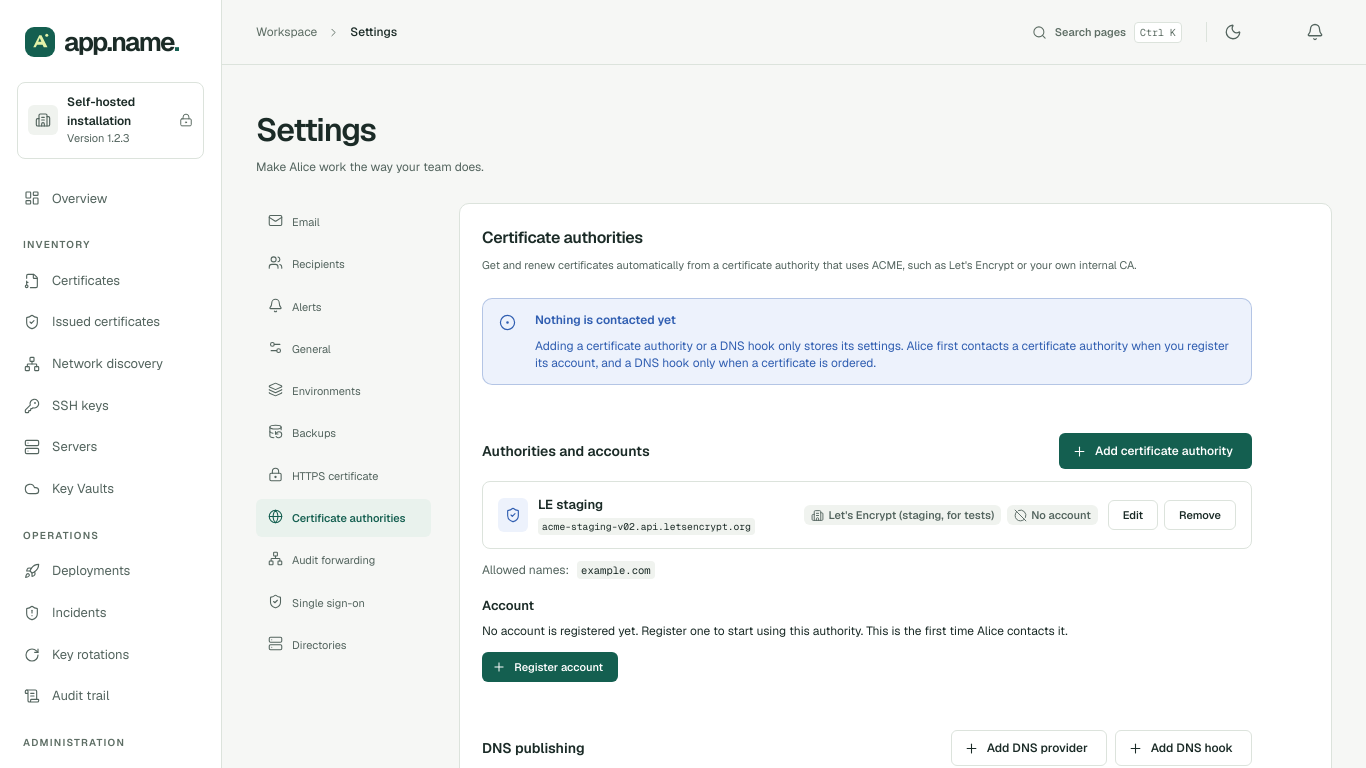
Test: Certificate authorities settings › registers at an authority without terms: no box, and no terms are sent
Click the button "Register account" at (550, 667), box [482, 652, 618, 682]
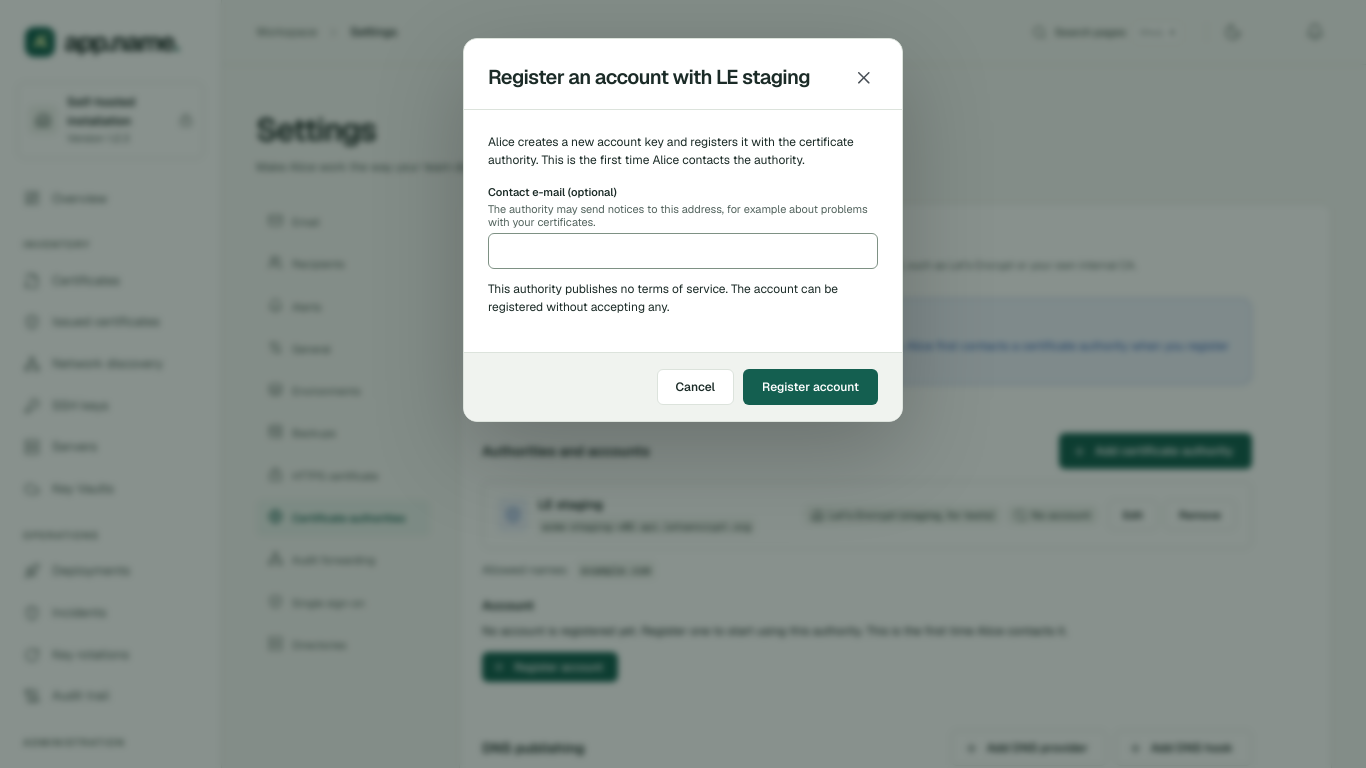
Check: the text "This authority publishes no terms of service" is shown, box [488, 281, 838, 315]
Click the button "Register account" at (811, 387), box [743, 369, 878, 405]
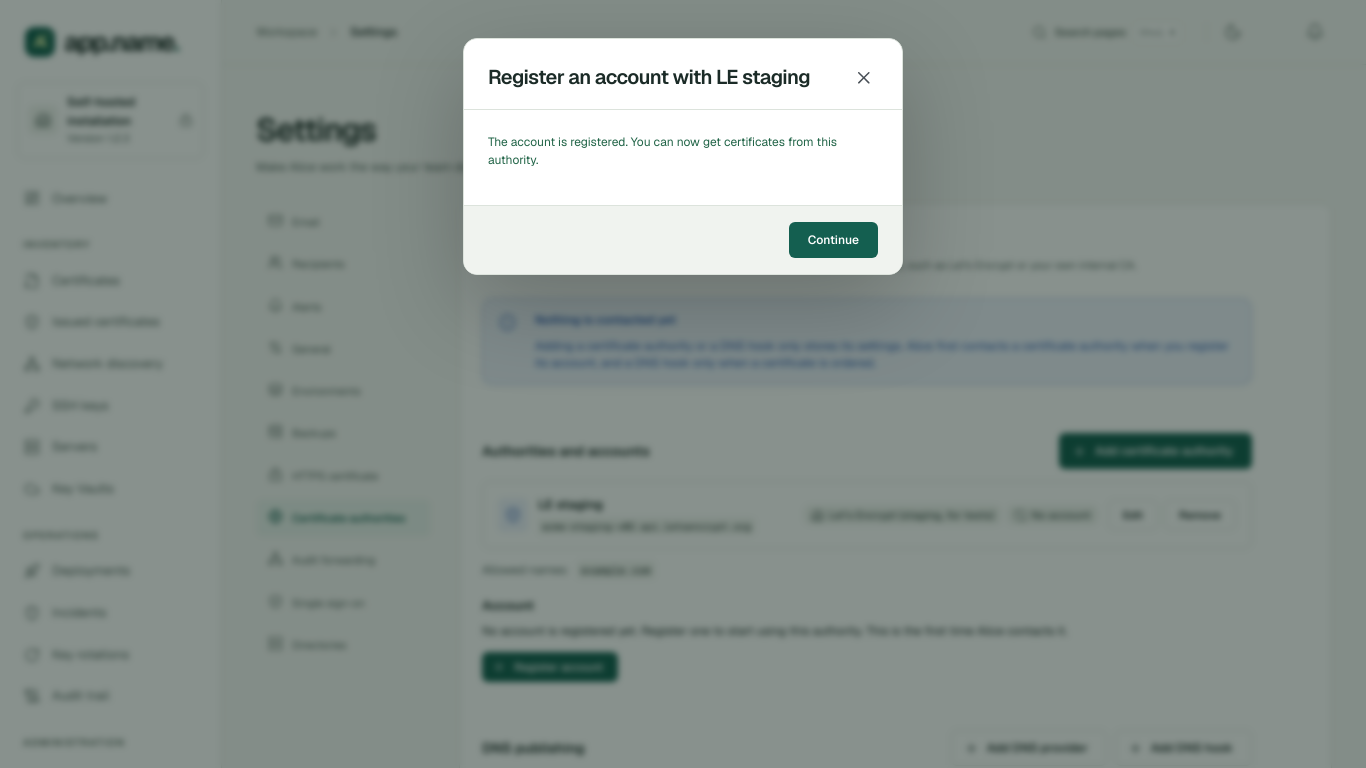
Check: the text "The account is registered. You can now get certificates from this authority." is shown, box [488, 134, 878, 169]
